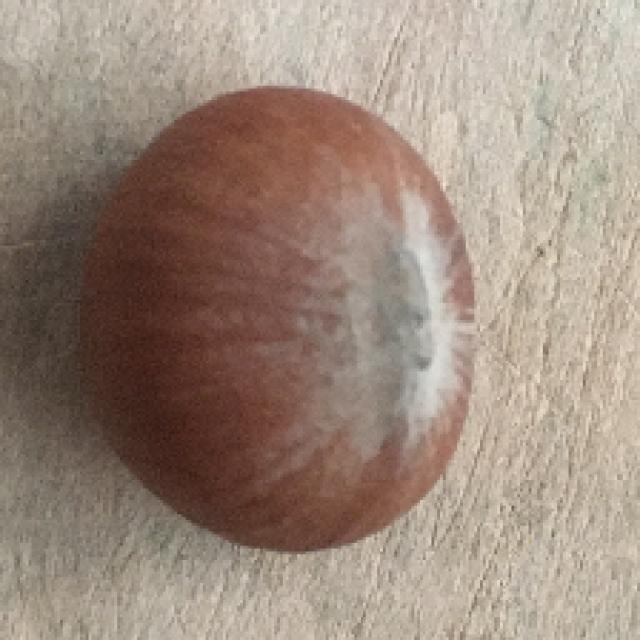QualityHazelnut: (79, 86, 479, 559)
